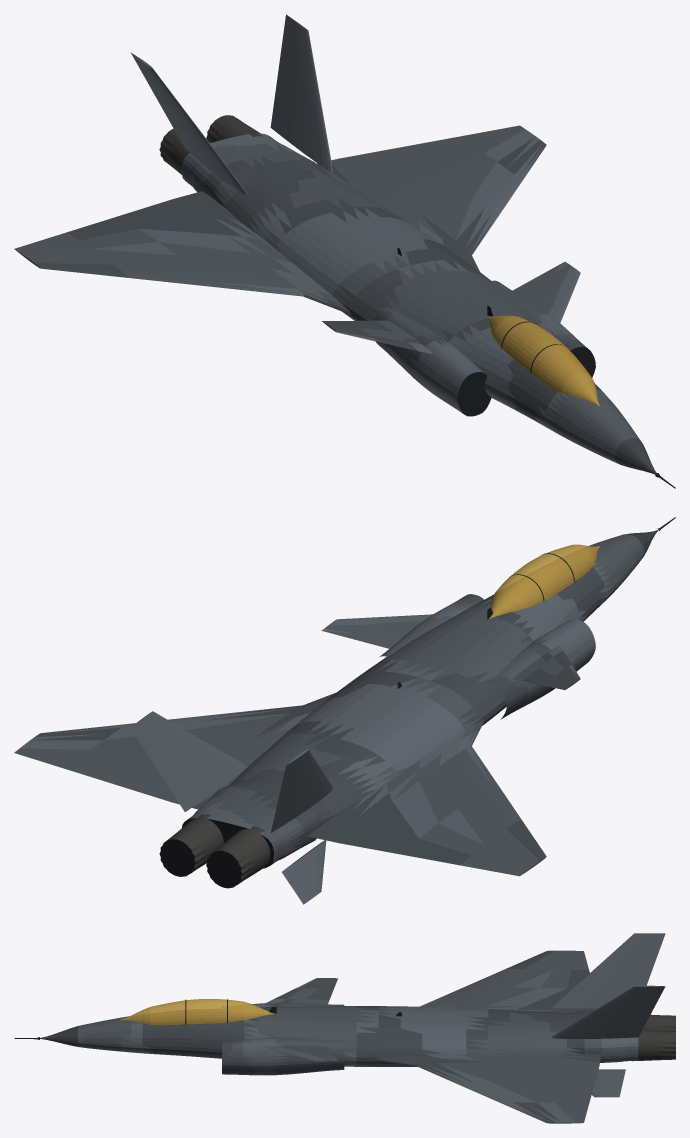
The picture shows the model from 3 angles, top to bottom: view 1: azimuth 30°, elevation 25°; view 2: azimuth 150°, elevation 25°; view 3: azimuth 270°, elevation 25°; orthographic projection. The views are drawn at different scales.
Parts seen in each view (by area): view 1: airframe, canopy; view 2: airframe, canopy; view 3: airframe, canopy.
Part boxes in pixels (<box>): airframe: <box>14,14,675,488</box>; canopy: <box>488,315,600,406</box>; airframe: <box>14,517,675,904</box>; canopy: <box>489,544,600,618</box>; airframe: <box>14,933,675,1123</box>; canopy: <box>119,999,274,1025</box>.
Bounding box in the file's own units: 13 × 4.12 × 21.15.
